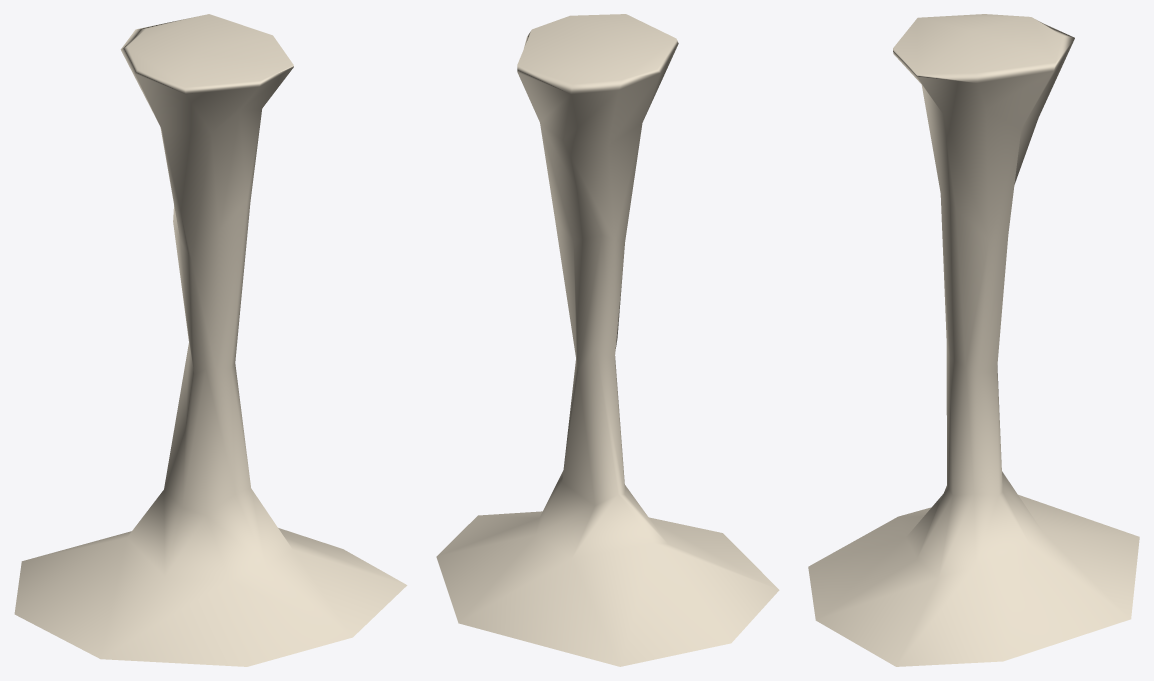
File: testColumn.fbx
The picture shows the model from 3 angles, left to right: view 1: azimuth 30°, elevation 25°; view 2: azimuth 150°, elevation 25°; view 3: azimuth 270°, elevation 25°; orthographic projection.
Parts seen in each view (by area): view 1: pasted__pCube21; view 2: pasted__pCube21; view 3: pasted__pCube21.
Part boxes in pixels (x1,y1,x2,y2): pasted__pCube21: (14,14,407,666); pasted__pCube21: (436,14,779,666); pasted__pCube21: (808,14,1139,666).
Size of the model in its own units: 16.44 by 26.47 by 14.44.
